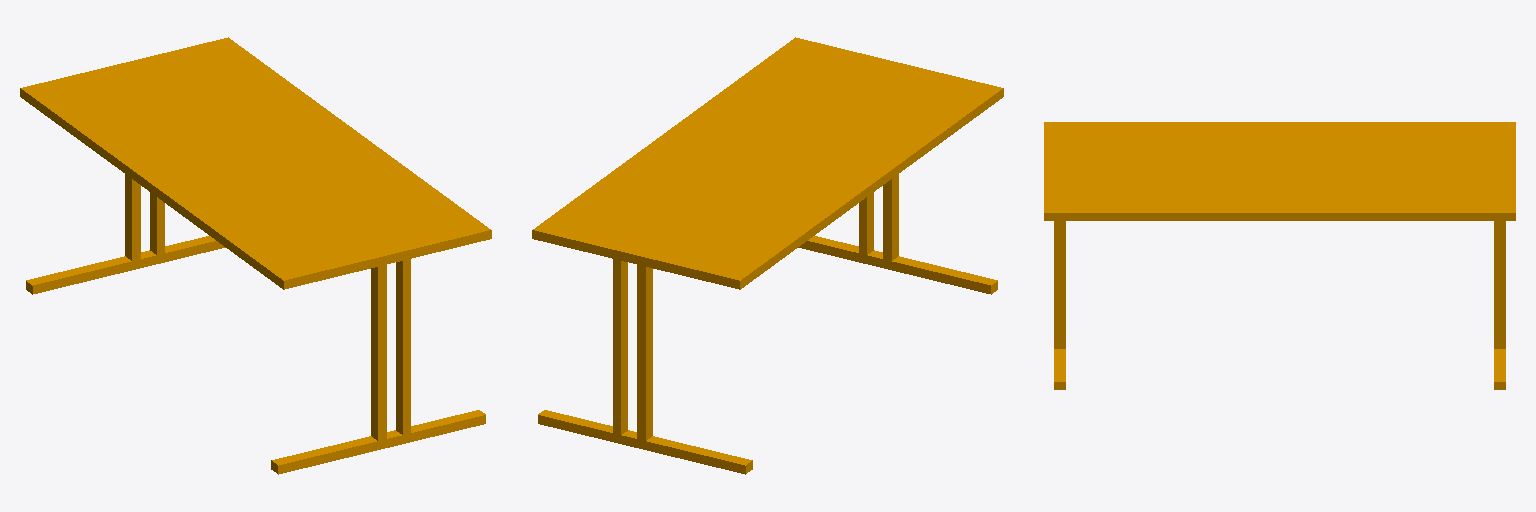
The robot description file, URDF, robot "table":
<?xml version="1.0" ?>
<robot name="table">
  <link name="table-base">
    <visual>
      <origin rpy="0 0 0" xyz="0 0 0"/>
      <geometry>
        <mesh filename="meshes/table/table.obj"/>
      </geometry>
    </visual>
    <collision>
      <origin rpy="0 0 0" xyz="0 0 0"/>
      <geometry>
        <mesh filename="meshes/table/table_ch.obj"/>
      </geometry>
    </collision>
    <inertial>
      <origin rpy="0 0 0" xyz="0.000000 0.000000 0.000000"/>
      <mass value="0"/>
      <inertia ixx="1.849155" ixy="-0.000354" ixz="-0.154188" iyy="1.662671" iyz="0.003292" izz="0.802239"/>
    </inertial>
  </link>
</robot>

--- Facts derived from the render (not from the file) ---
The picture shows the robot from 3 angles, left to right: view 1: azimuth 30°, elevation 25°; view 2: azimuth 150°, elevation 25°; view 3: azimuth 270°, elevation 25°; orthographic projection.
Model table with 1 links and 0 joints (none), rooted at table-base, posed every joint at zero.
Visible links, largest first — view 1: table-base; view 2: table-base; view 3: table-base.
Link boxes in pixels (left/top/right/bottom): table-base: left=20, top=37, right=491, bottom=474; table-base: left=532, top=37, right=1003, bottom=474; table-base: left=1044, top=122, right=1515, bottom=389.
Bounding box of the posed robot: 0.762 × 1.67 × 0.6921 m (x, y, z).
Meshes: 1 distinct files referenced, 1 mesh visuals loaded (1 OBJ).